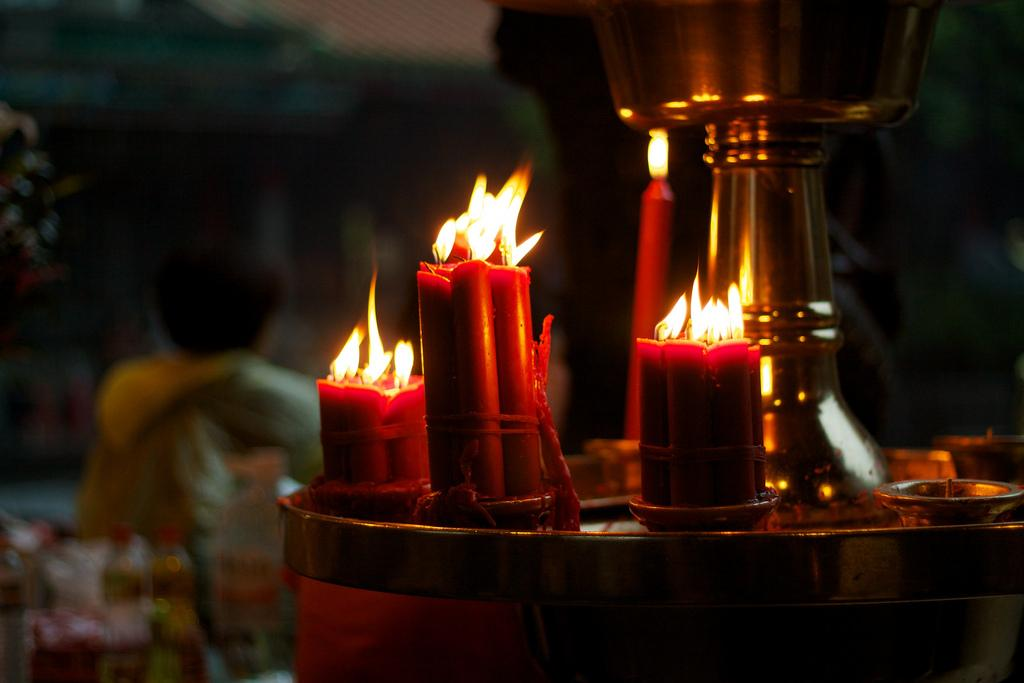fire: (432, 175, 530, 268), (660, 290, 762, 358), (338, 327, 420, 385), (642, 123, 675, 182)
